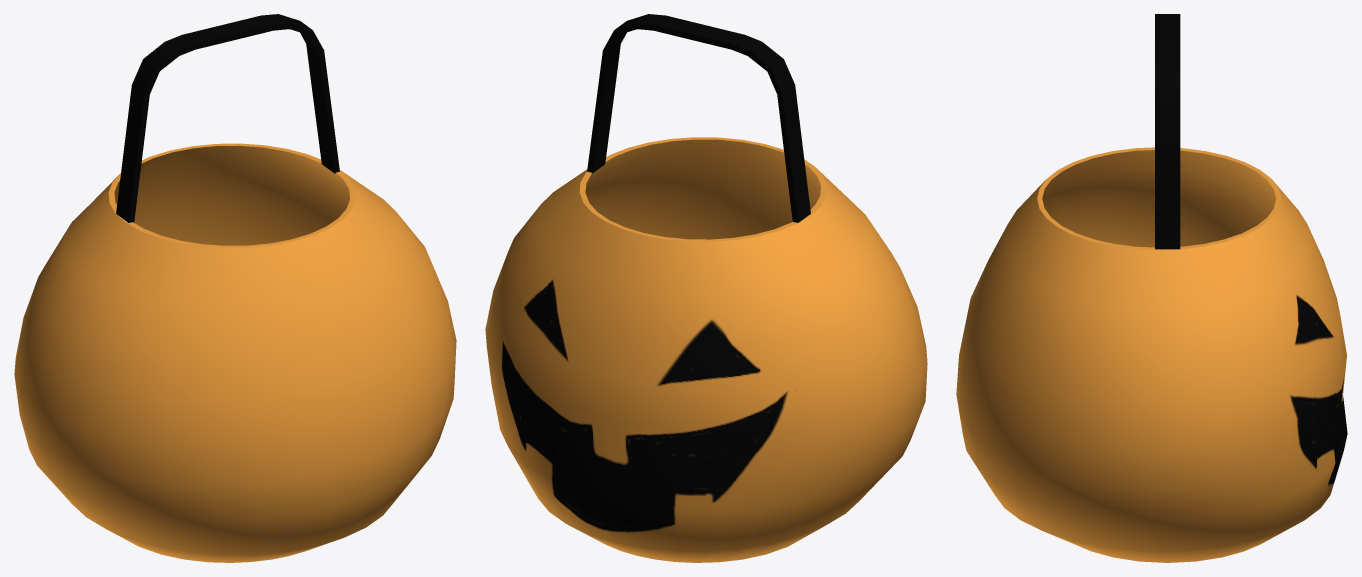
Rendered from Pumpkin.fbx.
3 renders of one model, left to right at view 1: azimuth 30°, elevation 25°; view 2: azimuth 150°, elevation 25°; view 3: azimuth 270°, elevation 25°, orthographic.
Parts seen in each view (by area): view 1: Cylinder.001; view 2: Cylinder.001; view 3: Cylinder.001.
Part boxes in pixels (bbox=[...]): Cylinder.001: bbox=[14, 14, 456, 562]; Cylinder.001: bbox=[485, 14, 927, 562]; Cylinder.001: bbox=[956, 14, 1347, 562].
Bounding box in the file's own units: 220 × 255 × 191.
